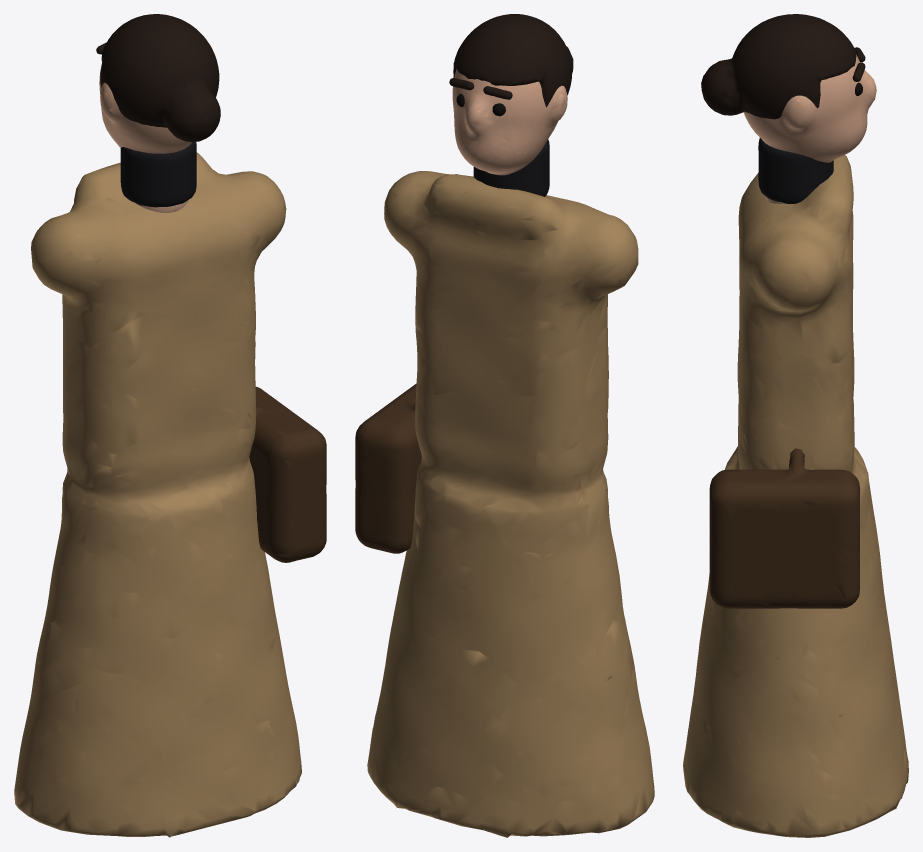
The model's file is journalist_body.obj.
3 views of the same model, side by side, from view 1: azimuth 30°, elevation 25°; view 2: azimuth 150°, elevation 25°; view 3: azimuth 270°, elevation 25° (orthographic).
Visible parts, largest first — view 1: top, hair, extra, under, skin; view 2: top, extra, skin, hair, under; view 3: top, extra, hair, skin, under.
Part boxes in pixels (bbox=[...]): top: bbox=[14, 152, 301, 837]; hair: bbox=[100, 14, 220, 142]; extra: bbox=[249, 386, 326, 562]; under: bbox=[120, 142, 196, 207]; skin: bbox=[99, 64, 191, 212]; top: bbox=[367, 171, 654, 837]; extra: bbox=[355, 383, 421, 553]; skin: bbox=[452, 69, 567, 175]; hair: bbox=[453, 14, 573, 107]; under: bbox=[473, 139, 549, 196]; top: bbox=[683, 155, 908, 837]; extra: bbox=[709, 448, 859, 608]; hair: bbox=[701, 14, 856, 119]; skin: bbox=[743, 54, 876, 203]; under: bbox=[758, 137, 833, 203].
Bounding box in the file's own units: 0.4825 × 1.34 × 0.3606.
